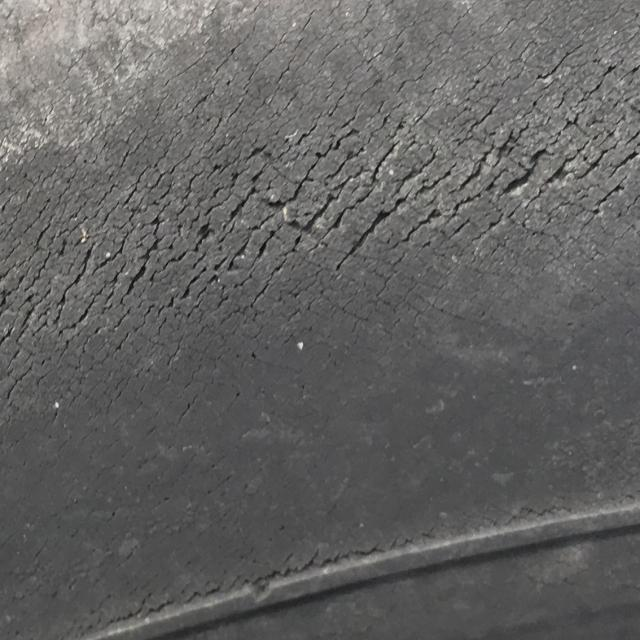Cracks: (0, 0, 637, 445), (37, 494, 640, 640)
